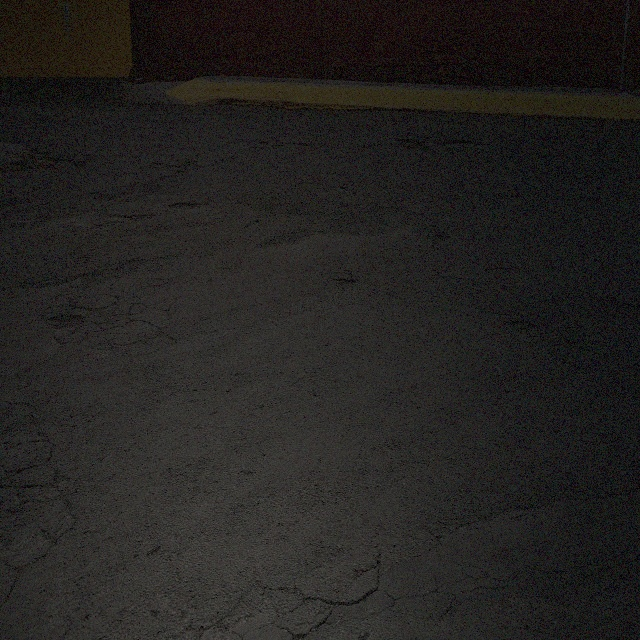pothole: (42, 154, 78, 178), (396, 135, 429, 153), (440, 137, 479, 152), (52, 312, 84, 328), (169, 199, 200, 213), (334, 274, 356, 287)
